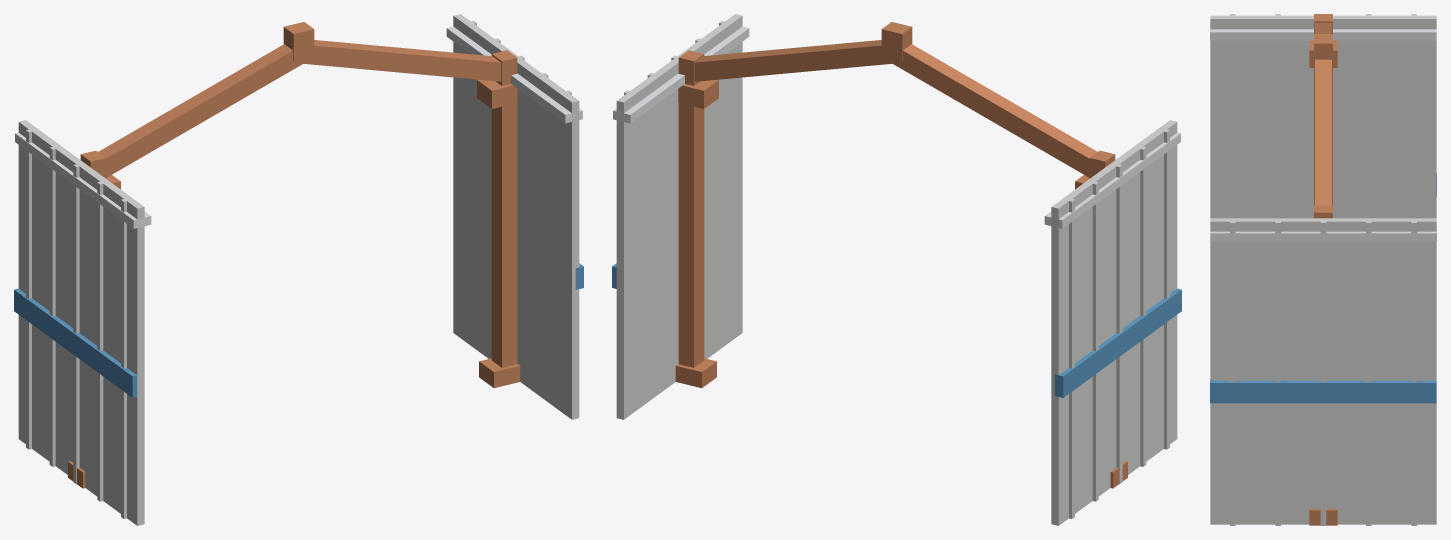
Rendered from shipyard-and-dry-dock-shipyard-and-dry-dock-fabricatio-35388ade__37940.glb.
3 views of the same model, side by side, from view 1: azimuth 30°, elevation 25°; view 2: azimuth 150°, elevation 25°; view 3: azimuth 270°, elevation 25° (orthographic). The views are drawn at different scales.
Visible parts, largest first — view 1: shipyard-and-dry-dock-fabrication-shed-bay; view 2: shipyard-and-dry-dock-fabrication-shed-bay; view 3: shipyard-and-dry-dock-fabrication-shed-bay.
Boxes of the visible parts, x1=… form: shipyard-and-dry-dock-fabrication-shed-bay: x1=14, y1=14, x2=583, y2=525; shipyard-and-dry-dock-fabrication-shed-bay: x1=612, y1=14, x2=1181, y2=525; shipyard-and-dry-dock-fabrication-shed-bay: x1=1210, y1=14, x2=1436, y2=525.
Bounding box in the file's own units: 8.78 × 7.45 × 4.
